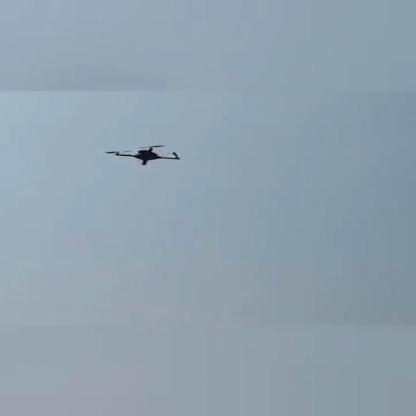plane: (104, 142, 183, 168)
